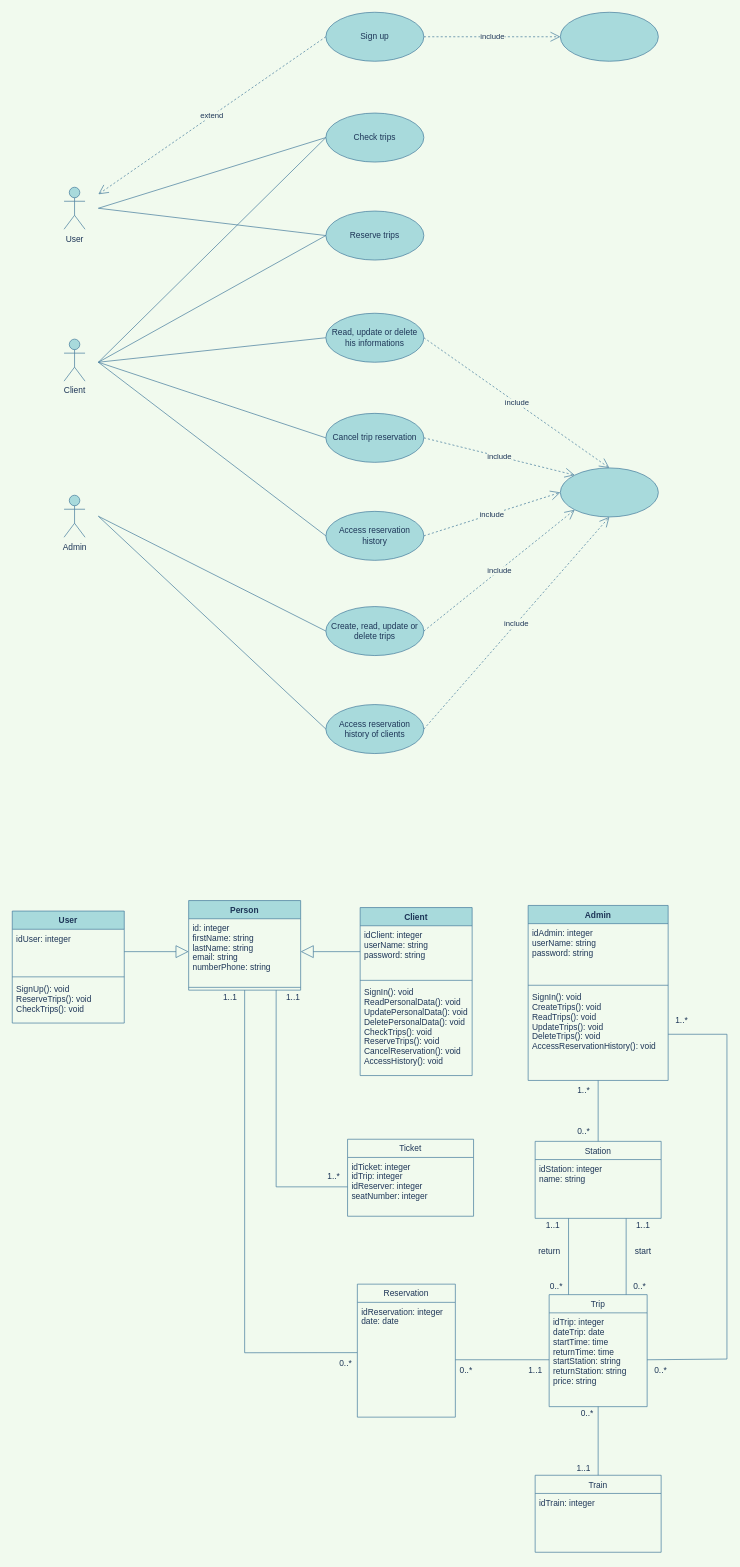
Some shapes in this 740 by 1567 pixel diagram are drawn without their labels. The shapes that lost their labels are listed below. From the top down, each one's centre as x and y in pixels, then its label:
At point (609, 36): "Create his informations".
At point (609, 492): "Sign in".
